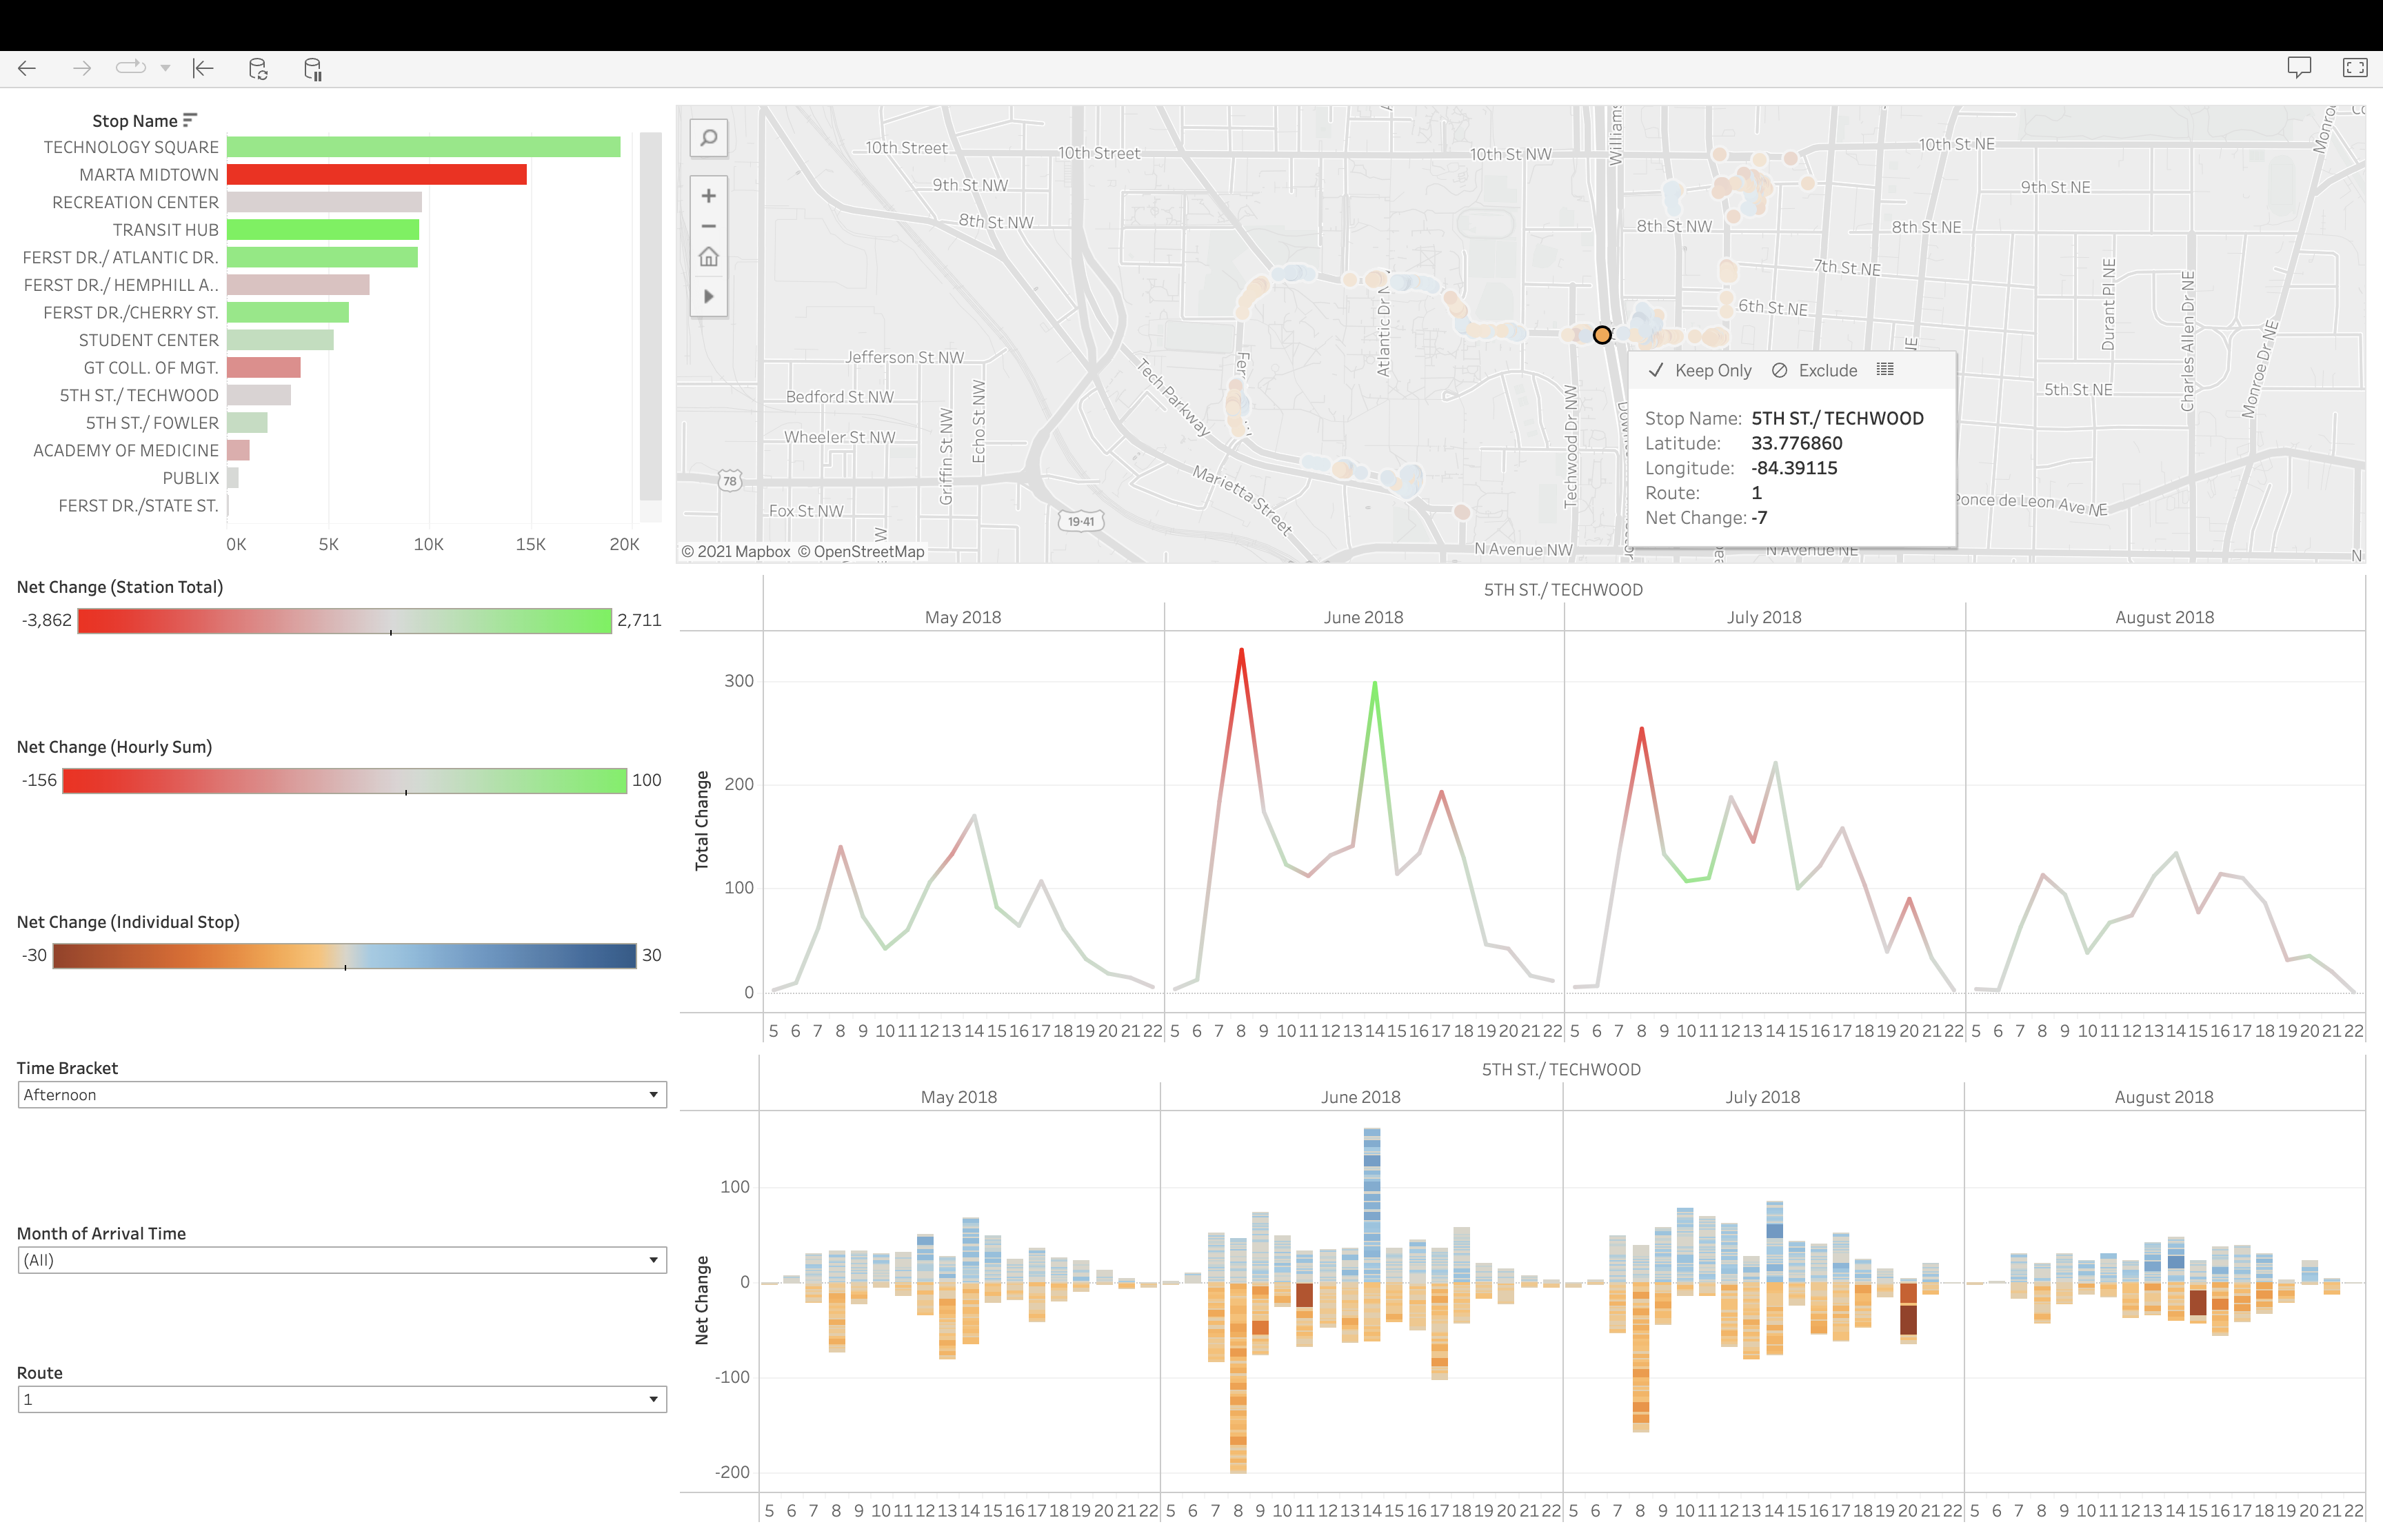

What the dashboard file says about the page in this screenshot:
{"tool":"tableau","page":{"name":"Dashboard","canvas":[1000,1000],"units":"permille","ordinal":0},"visuals":[{"type":"worksheet","title":"Stop Volume","mark":"Bar","rows":["Stop_Name"],"cols":["Calculation_143130093440294916"],"box":[7.5,13.4,447.2,319.9]},{"type":"worksheet","title":"Heatmap of Traffic","mark":"Automatic","rows":["Latitude"],"cols":["Longitude"],"box":[454.6,13.4,537.9,319.9]},{"type":"legend","title":"Stop Volume","param":"[federated.1070dh10ssghkr11pfkch1s62ikm].[sum:Calculation_203858304784863239:qk]","box":[7.5,333.3,276.9,108.9]},{"type":"worksheet","title":"Breakdown Total","mark":"Line","rows":["Calculation_143130093440294916"],"cols":["Stop_Name","Calculation_203858304781623300","Calculation_1092474811222519809"],"box":[284.4,333.3,708.1,1.7]},{"type":"worksheet","title":"Breakdown Net","mark":"Bar","rows":["Calculation_203858304784863239"],"cols":["Stop_Name","Calculation_203858304781623300","Calculation_1092474811222519809"],"box":[284.4,335,708.1,1.7]},{"type":"legend","title":"Breakdown Total","param":"[federated.1070dh10ssghkr11pfkch1s62ikm].[sum:Calculation_203858304784863239:qk]","box":[7.5,442.2,276.9,118.9]},{"type":"legend","title":"Heatmap of Traffic","param":"[federated.1070dh10ssghkr11pfkch1s62ikm].[sum:Calculation_203858304784863239:qk]","box":[7.5,561.1,276.9,98.8]},{"type":"filter","title":"Heatmap of Traffic","param":"[federated.1070dh10ssghkr11pfkch1s62ikm].[none:Calculation_213709928977616896:nk","box":[7.5,660,276.9,112.2]},{"type":"filter","title":"Breakdown Total","param":"[federated.1070dh10ssghkr11pfkch1s62ikm].[tmn:Calculation_203858304781623300:ok]","box":[7.5,772.2,276.9,95.5]},{"type":"filter","title":"Heatmap of Traffic","param":"[federated.1070dh10ssghkr11pfkch1s62ikm].[none:Rout:ok]","box":[7.5,867.7,276.9,118.9]}]}

Visuals, with their boxes on the dashboard's canvas, which has no fixed pixel size, in thousandths of its width and height (x1, y1, x2, y2). These are canvas units, not pixel positions in the 2383x1540 screenshot, which may show the page scaled, cropped or inside an application window:
"Stop Volume" worksheet (Bar marks): (8,13,455,333)
"Heatmap of Traffic" worksheet: (455,13,992,333)
"Stop Volume" legend: (8,333,284,442)
"Breakdown Total" worksheet (Line marks): (284,333,992,335)
"Breakdown Net" worksheet (Bar marks): (284,335,992,337)
"Breakdown Total" legend: (8,442,284,561)
"Heatmap of Traffic" legend: (8,561,284,660)
"Heatmap of Traffic" filter: (8,660,284,772)
"Breakdown Total" filter: (8,772,284,868)
"Heatmap of Traffic" filter: (8,868,284,987)
